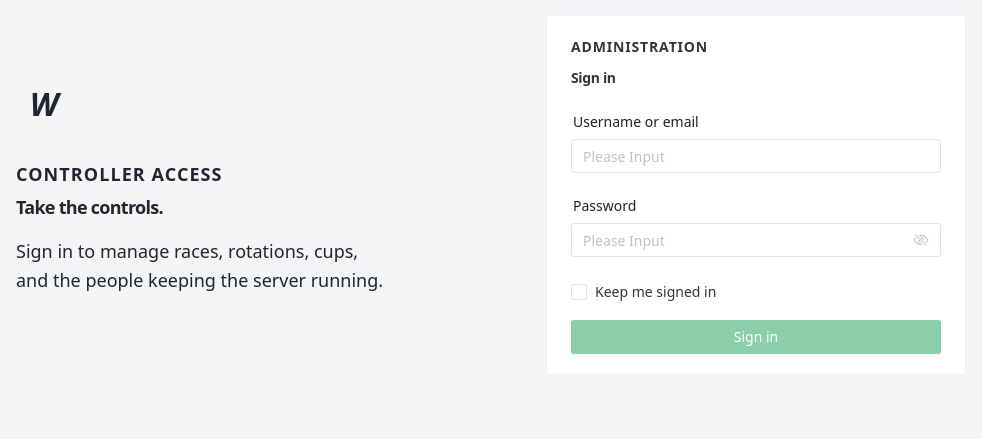
Test case: LoginView › shows invalid feedback after a failed sign-in
This screenshot has width=982, height=439.
Type "admin" into the field named "login". click: (756, 156)
box: left=583, top=139, right=929, bottom=173
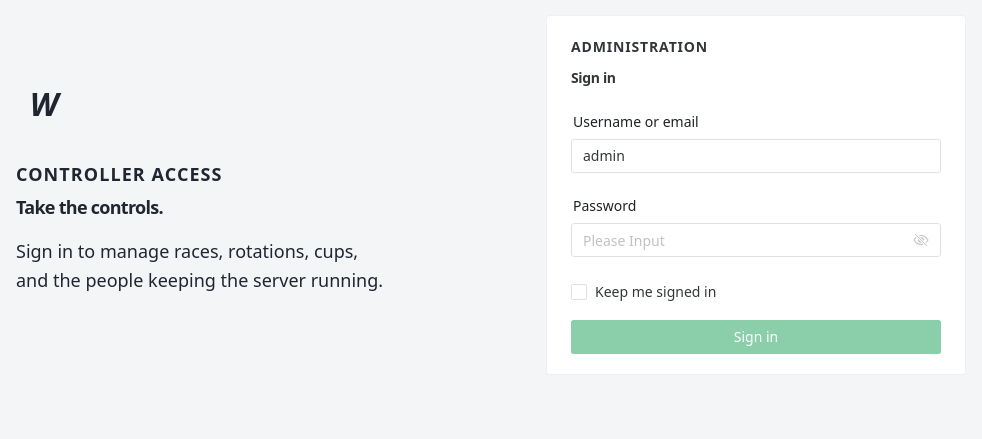
Type "secret" into the password field named "password". click: (746, 240)
box: left=583, top=223, right=909, bottom=257
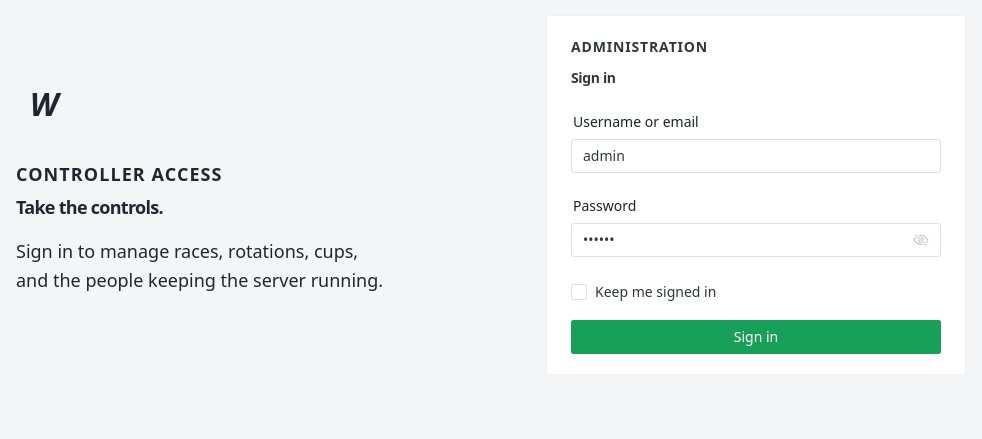
Submit the form, box left=571, top=113, right=941, bottom=354
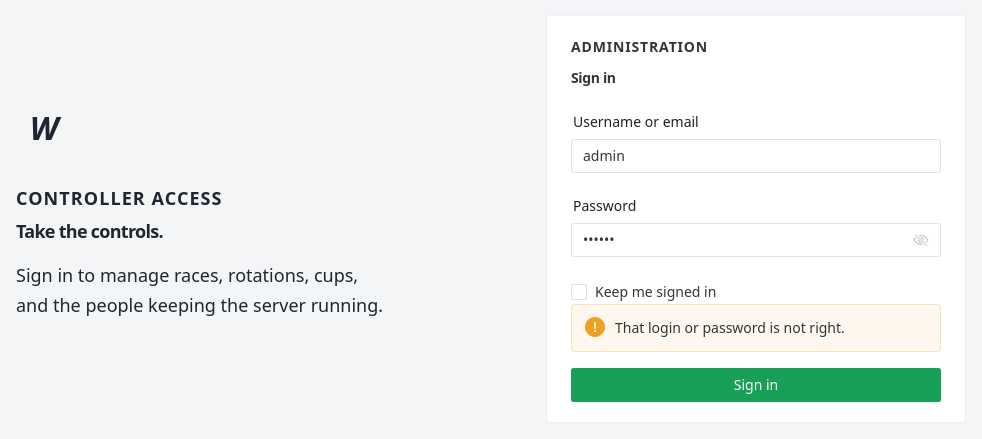
Now the text "That login or password is not right." is shown, box left=615, top=318, right=845, bottom=337
